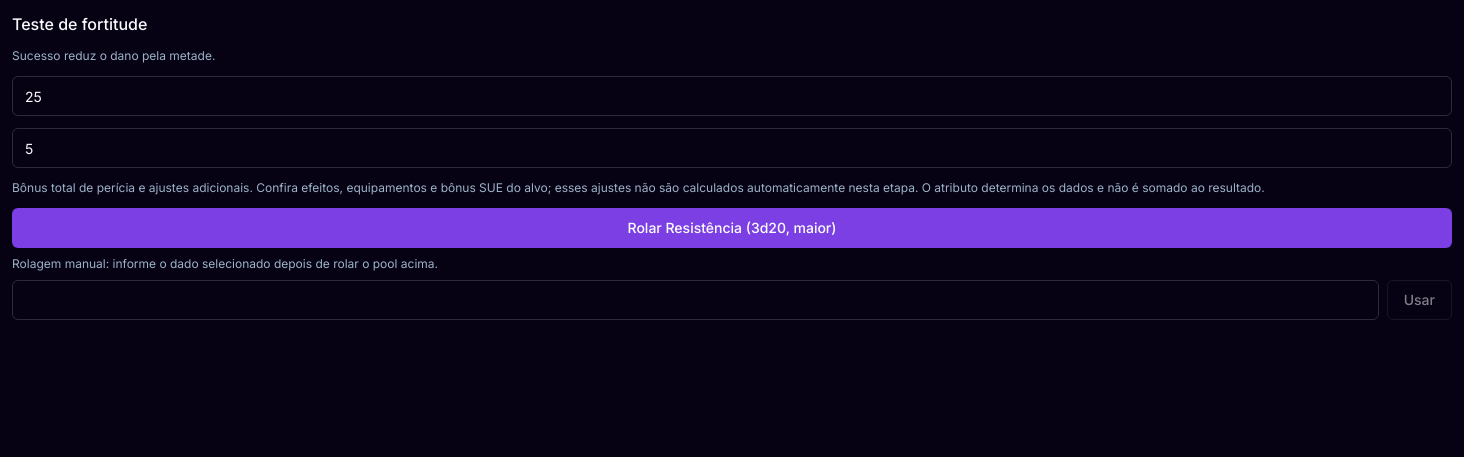
Scenario: resistência e dano final no wizard › preserva DT explícita e entrega dano manual conferido depois da resistência
Later steps or results of the test are not shown.
Expected: the number field named "Dificuldade da resistência" holds "25", [12,76,1452,116]
Expected: the number field named "Bônus numérico da resistência" holds "5", [12,128,1452,168]
Click the button "Rolar Resistência (3d20, maior)" at point(732, 228), box [12,208,1452,248]
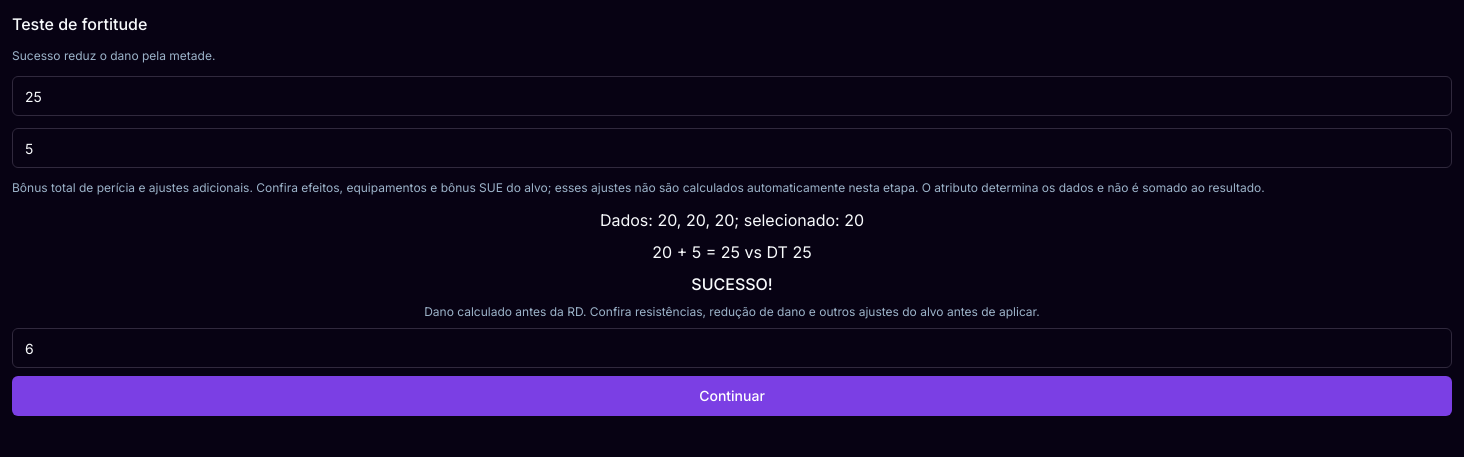
Expected: the text "20 + 5 = 25 vs DT 25" is shown, [652,242,812,262]
Expected: the number field named "Dano final para aplicação" holds "6"
Replace the text in the number field named "Dano final para aplicação" with "-1" at point(732, 348), box [12,328,1452,368]
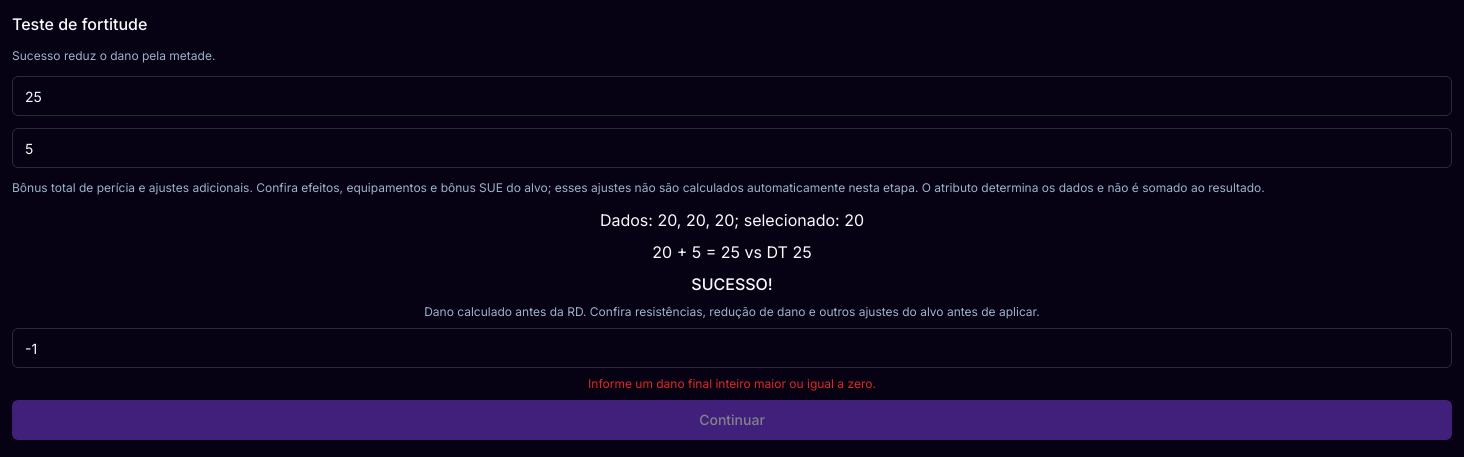
Expected: the button "Continuar" is disabled, [12,400,1452,440]
